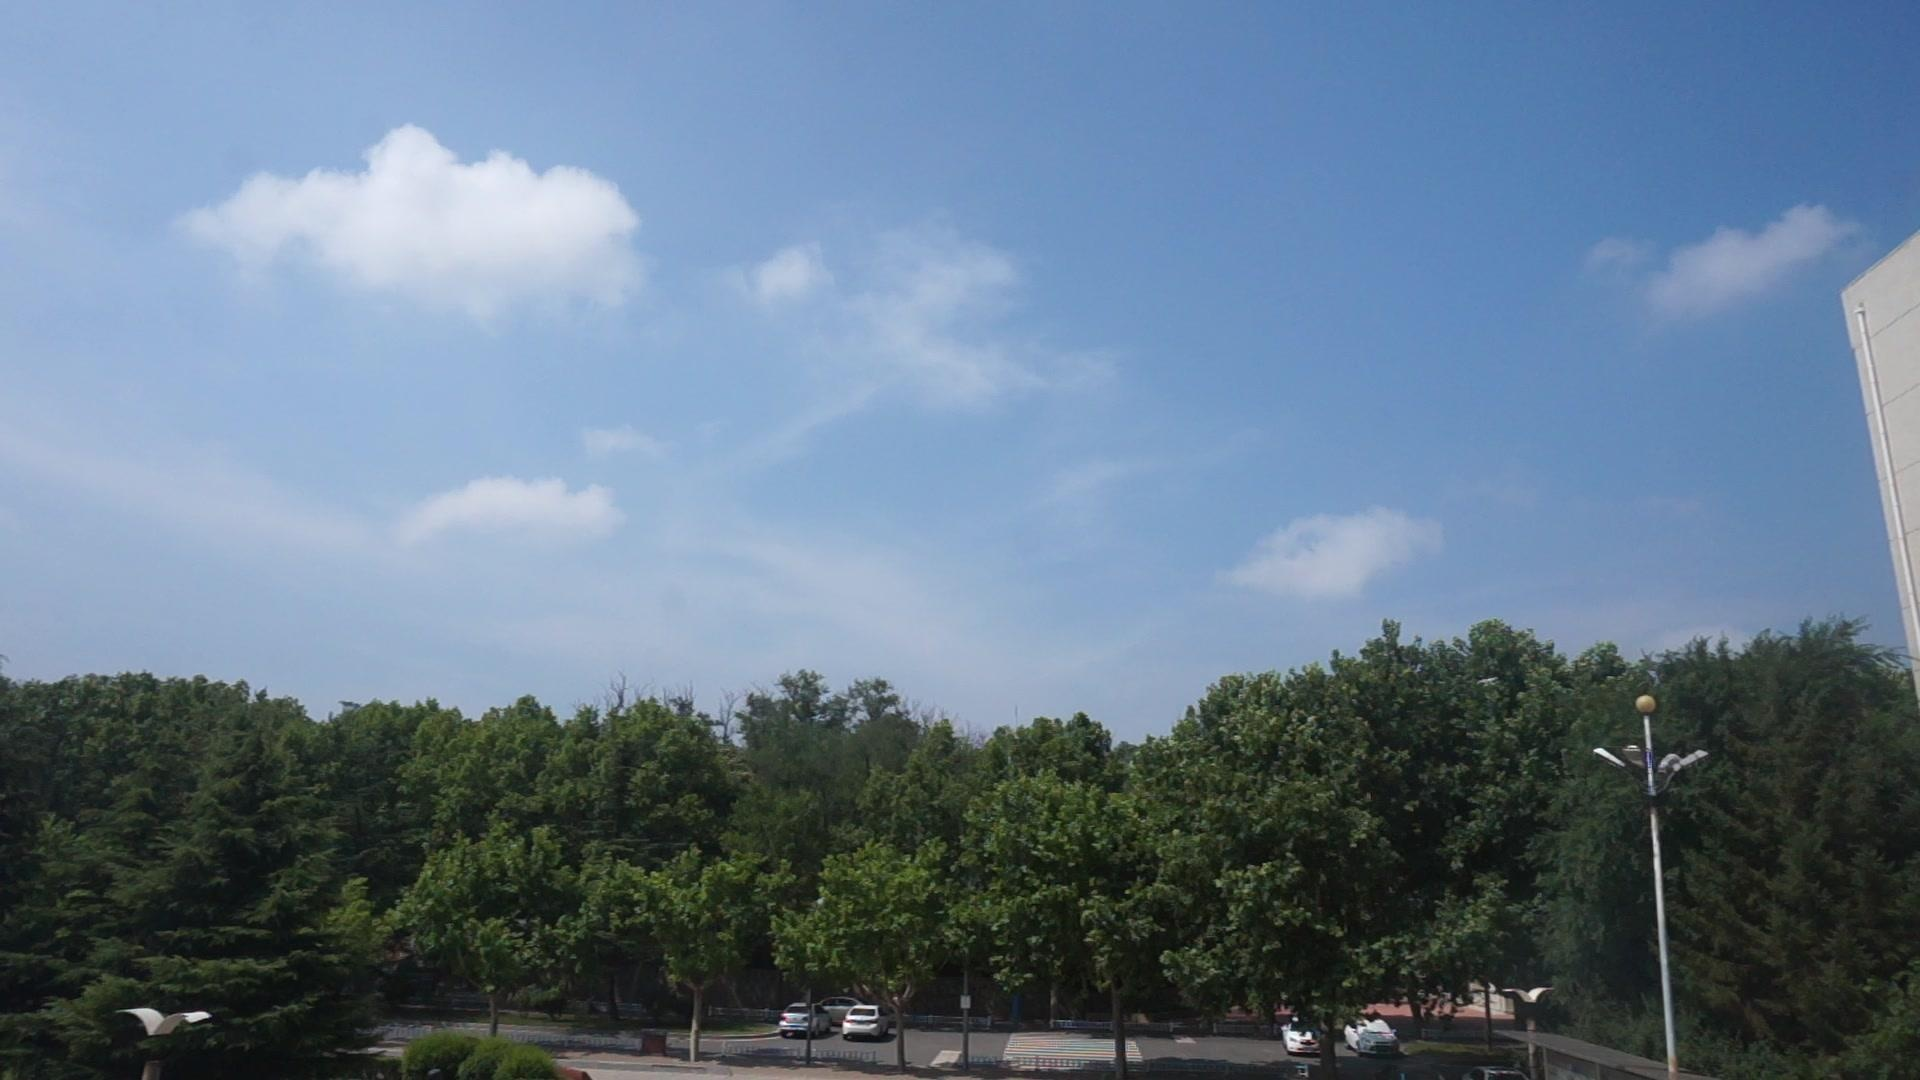UAV: (1478, 678, 1498, 687)
